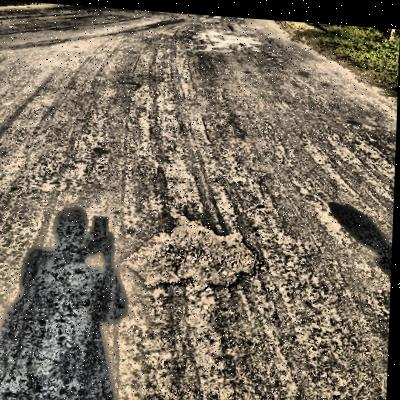pothole: (121, 206, 267, 295)
